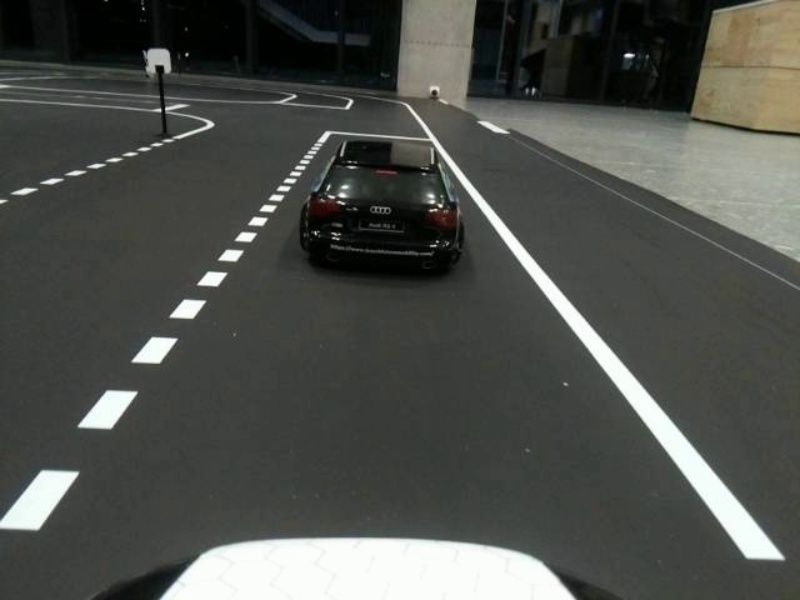car: (272, 132, 487, 284)
